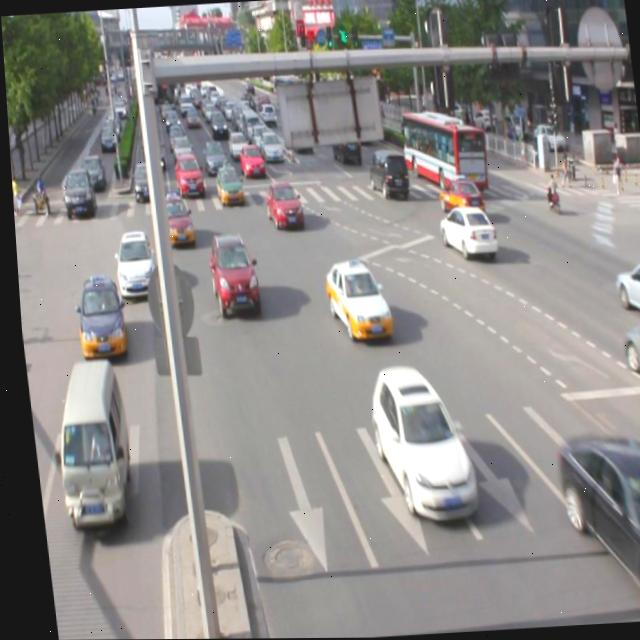car: (546, 427, 640, 621), (361, 363, 472, 522), (319, 257, 389, 342), (68, 274, 124, 358), (203, 232, 258, 316), (108, 229, 157, 302), (433, 203, 495, 260), (432, 175, 482, 218), (261, 181, 303, 231), (158, 190, 192, 246)
truck: (44, 356, 133, 532)
